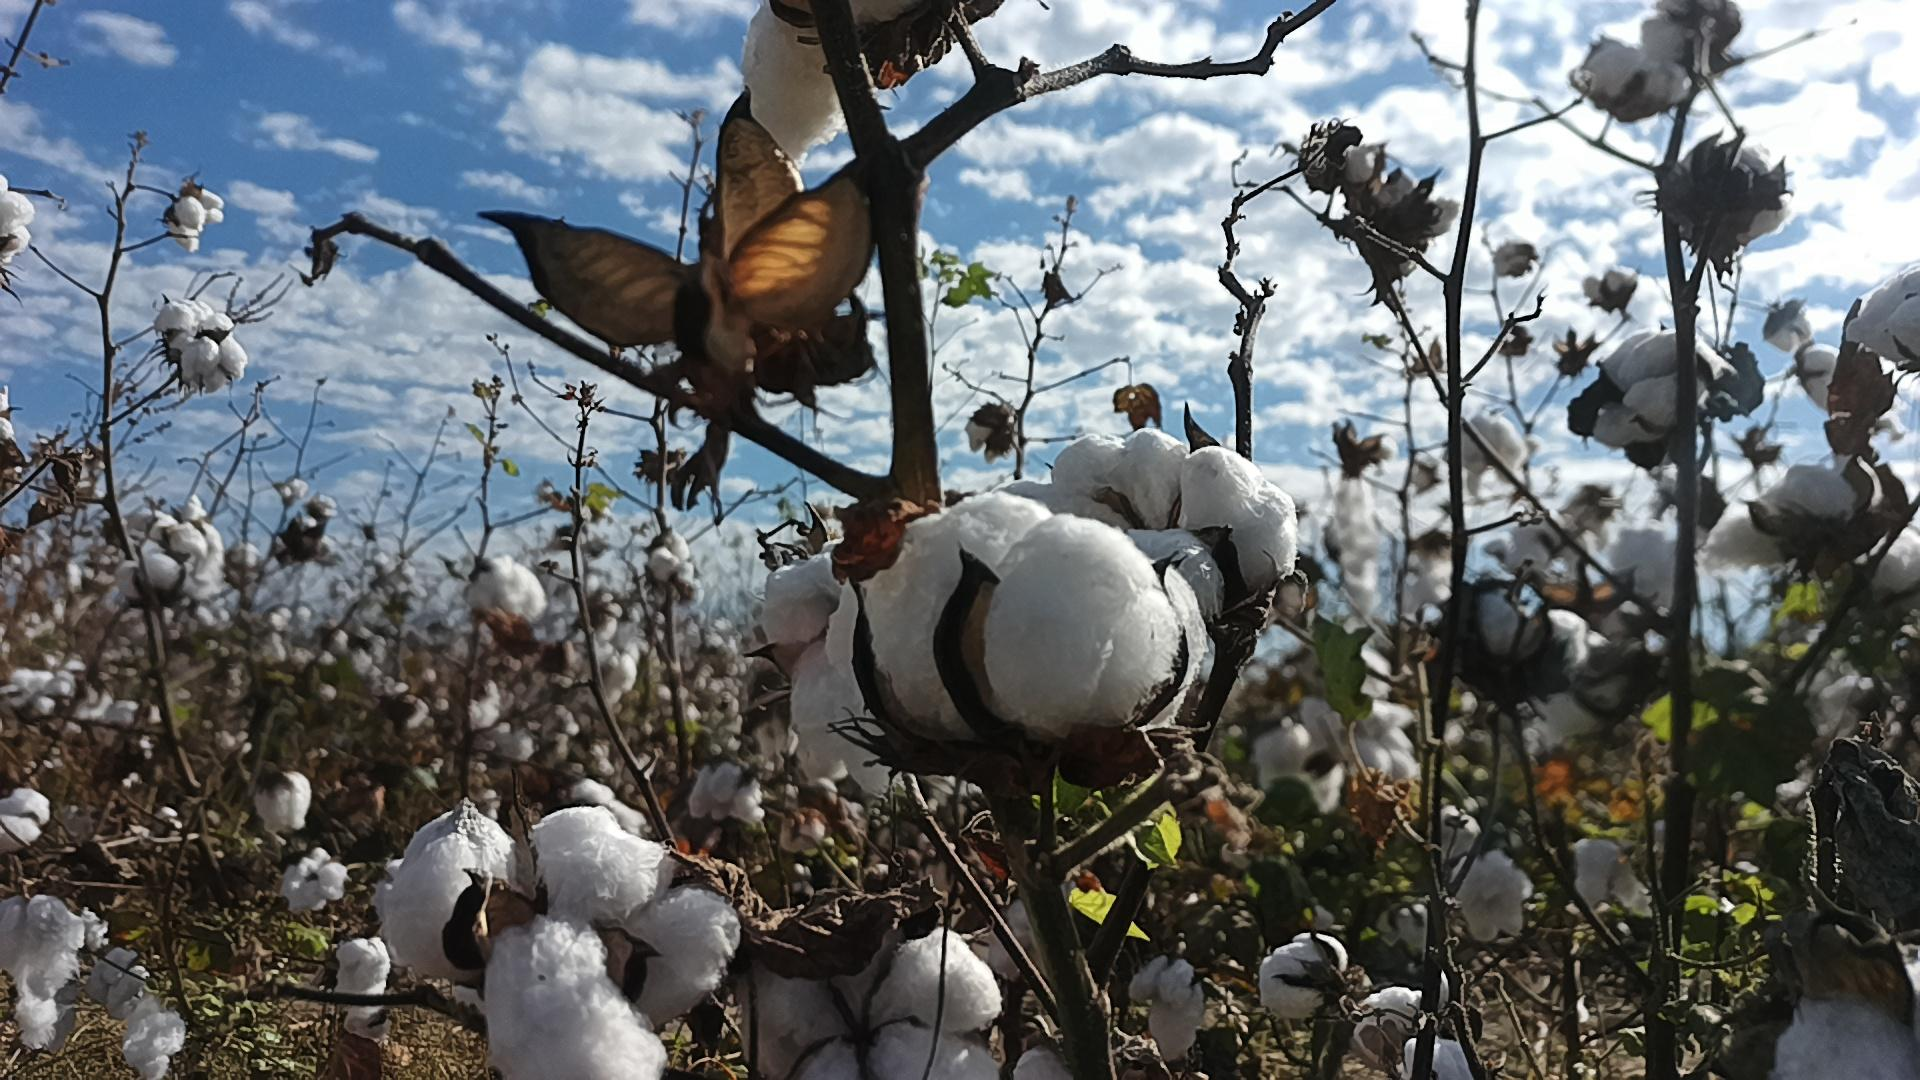cotton_ready: (824, 493, 1205, 764), (386, 806, 745, 1080), (998, 436, 1298, 608), (746, 926, 1007, 1080), (761, 551, 890, 799), (742, 0, 924, 167), (1733, 956, 1920, 1080), (1585, 327, 1733, 458), (1705, 459, 1863, 575), (0, 895, 88, 1047), (1684, 141, 1793, 258), (1461, 593, 1590, 680), (1254, 935, 1353, 1027), (1126, 953, 1205, 1063), (1585, 40, 1693, 111), (1828, 521, 1920, 603), (1638, 0, 1738, 75), (1847, 276, 1920, 365), (335, 935, 392, 1035)
